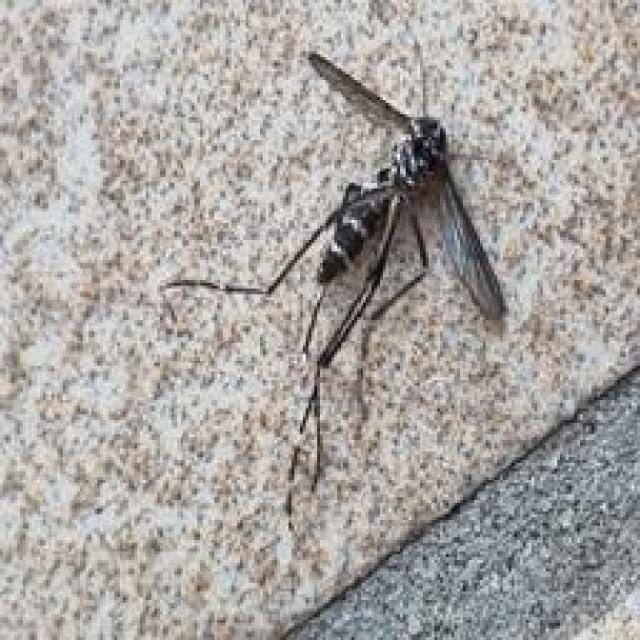Aedes albopictus: (160, 39, 511, 530)
